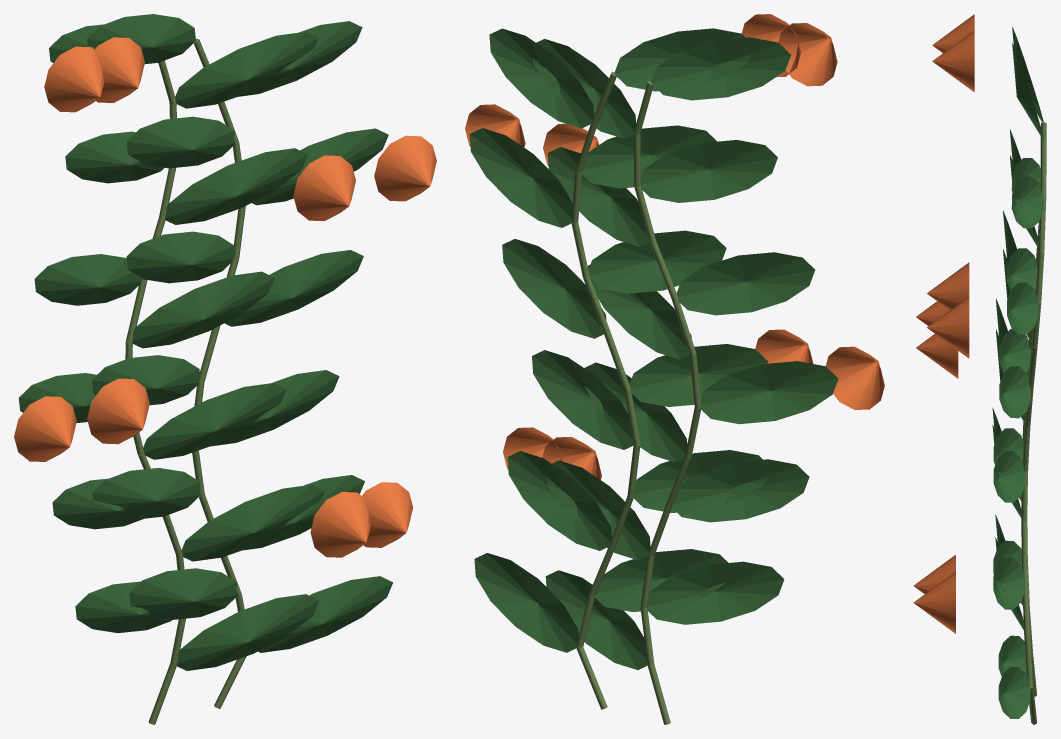
Rendered from campsis-grandiflora.glb.
The picture shows the model from 3 angles, left to right: view 1: azimuth 30°, elevation 25°; view 2: azimuth 150°, elevation 25°; view 3: azimuth 270°, elevation 25°; orthographic projection. The views are drawn at different scales.
Visible parts, largest first — view 1: Climber species leaves, Species flowers / bracts, Climber species stems; view 2: Climber species leaves, Species flowers / bracts, Climber species stems; view 3: Climber species leaves, Species flowers / bracts, Climber species stems.
Boxes of the visible parts, left/top/right/bottom form: Climber species leaves: left=18, top=14, right=392, bottom=670; Species flowers / bracts: left=14, top=37, right=436, bottom=557; Climber species stems: left=125, top=38, right=246, bottom=724; Climber species leaves: left=469, top=28, right=838, bottom=669; Species flowers / bracts: left=465, top=14, right=884, bottom=479; Climber species stems: left=571, top=72, right=701, bottom=724; Climber species leaves: left=992, top=27, right=1043, bottom=718; Species flowers / bracts: left=913, top=14, right=974, bottom=633; Climber species stems: left=1021, top=122, right=1046, bottom=724.
Bounding box in the file's own units: 0.526 × 0.8554 × 0.1636.
